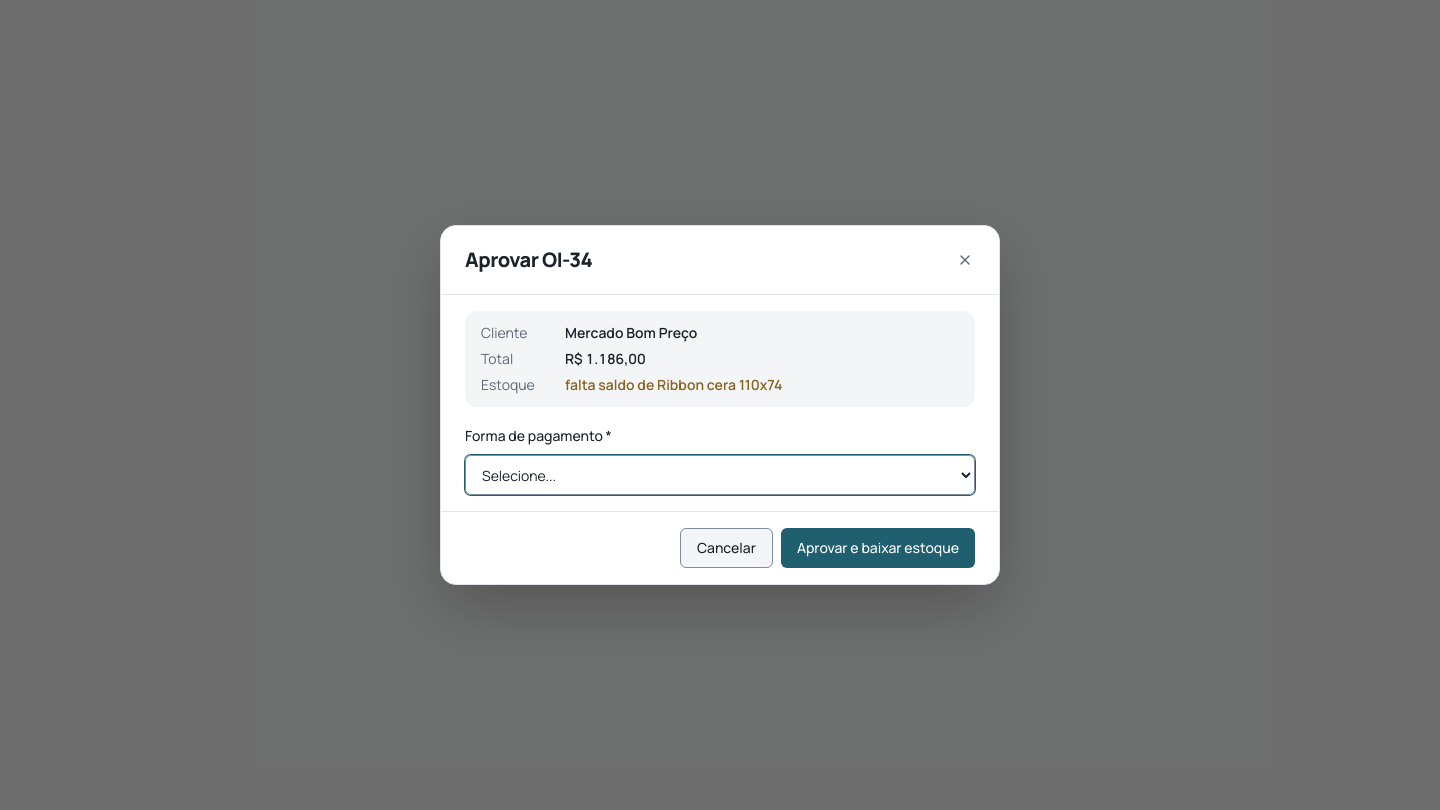
Test: AcaoVendaDialog: casos da antiga janela do orçamento › outra recusa da aprovação (vencido) fica no modal de aprovação
Expected: the heading "Aprovar OI-34" is shown, [465, 246, 592, 273]
Select "A combinar" in the dropdown labelled "Forma de pagamento" at (720, 475), box [465, 455, 975, 495]
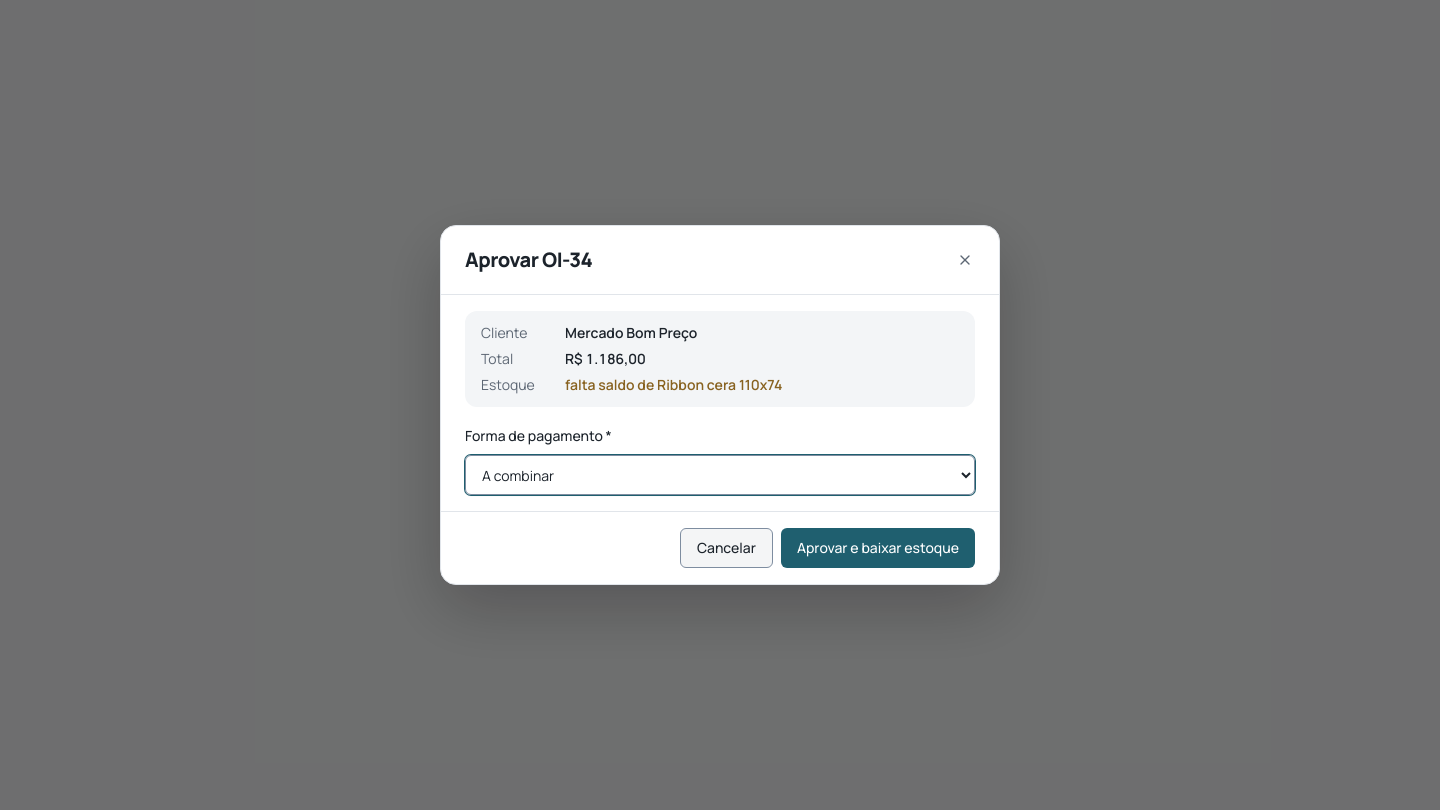
Click the button "Aprovar e baixar estoque" at (878, 548), box [781, 528, 975, 568]
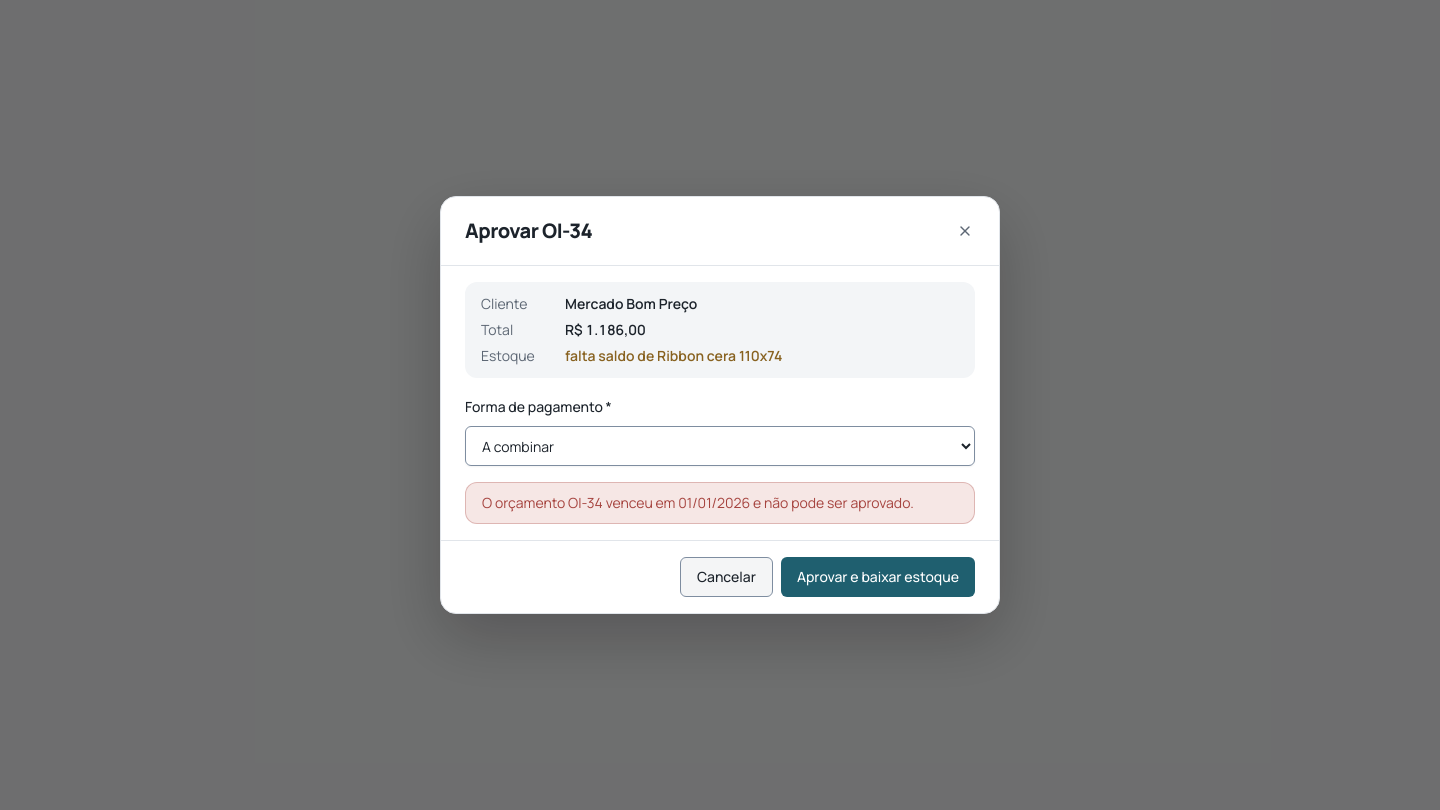
Expected: the heading "Aprovar OI-34" is shown, [465, 217, 592, 244]
Expected: the message shows "venceu em 01/01/2026", [482, 493, 914, 512]
